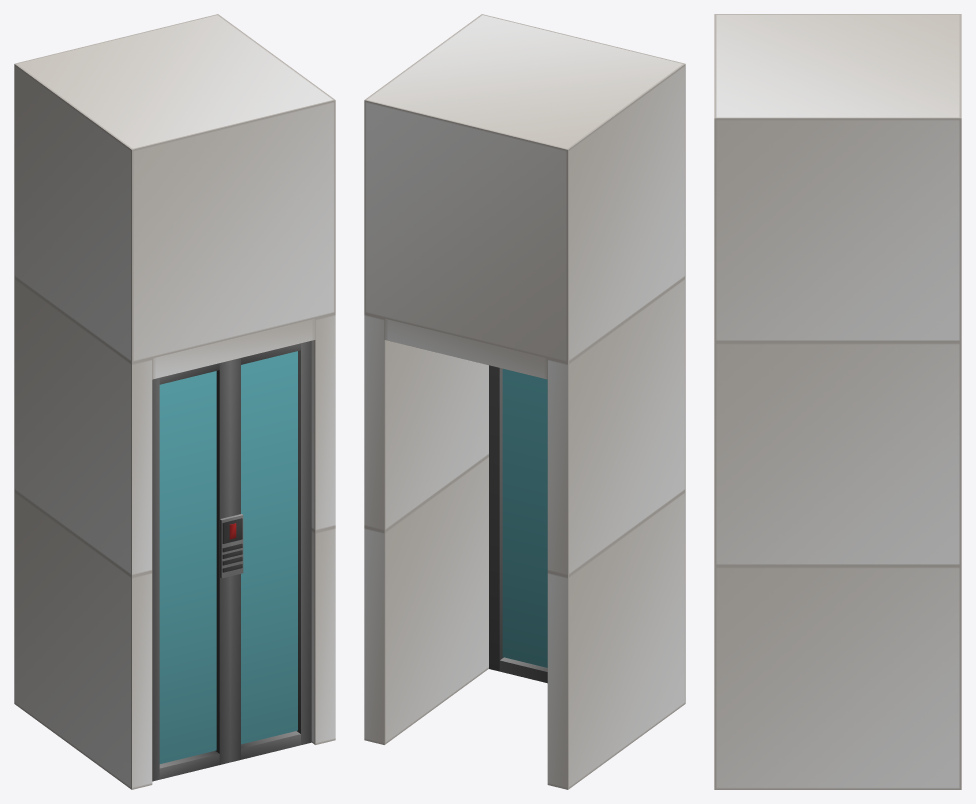
The model's file is scene_door_slide.fbx.
The picture shows the model from 3 angles, left to right: view 1: azimuth 30°, elevation 25°; view 2: azimuth 150°, elevation 25°; view 3: azimuth 270°, elevation 25°; orthographic projection. The views are drawn at different scales.
Parts seen in each view (by area): view 1: mesh_door_slide, mesh_door_left, mesh_door_right; view 2: mesh_door_slide, mesh_door_left; view 3: mesh_door_slide.
Part boxes in pixels (bbox=[...]): mesh_door_slide: bbox=[14, 14, 335, 789]; mesh_door_left: bbox=[220, 341, 311, 762]; mesh_door_right: bbox=[152, 360, 230, 781]; mesh_door_slide: bbox=[364, 14, 685, 789]; mesh_door_left: bbox=[489, 365, 547, 683]; mesh_door_slide: bbox=[714, 14, 961, 789].
Size of the model in its own units: 1 by 3 by 1.
2 materials, 1 textured.
